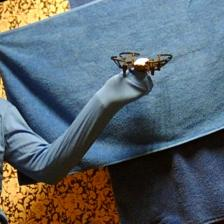drone: (111, 48, 172, 78)
